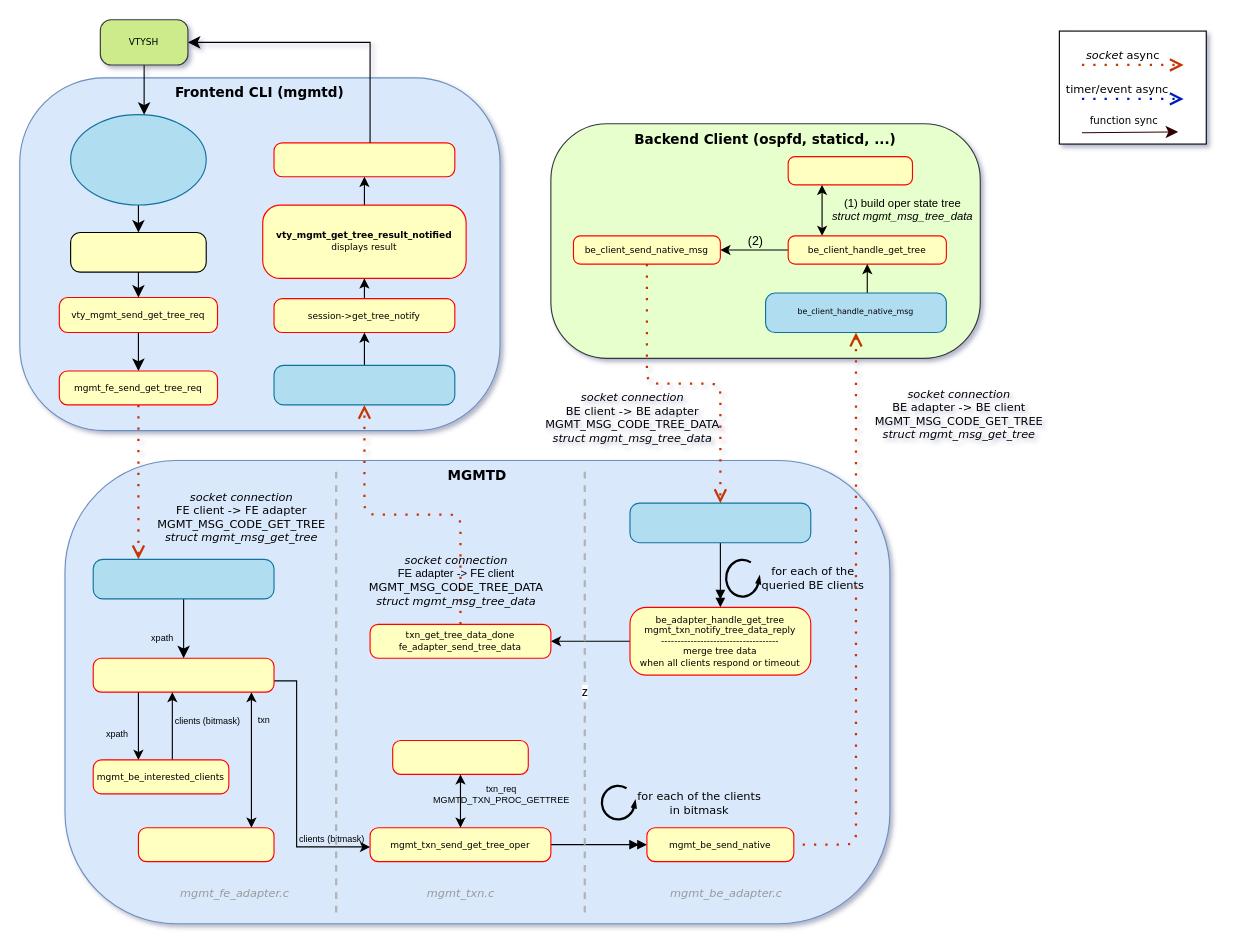
The diagram is 1233 pixels wide and 950 high, and some of its shapes have lost their labels. Here are the shapes that lost their labels. From the top down, the centre of each, then its label:
pixel 137 159: EVENT: VTYSH_READ
pixel 364 159: vty_mgmt_resume_response
pixel 849 170: nb_oper_data_iterate
pixel 137 251: "show mgmt get-data-tree WORD$path [json|xml]"
pixel 364 384: fe_client_handle_native_msg
pixel 720 522: be_adapter_handle_native_msg
pixel 183 578: fe_adapter_handle_native_msg
pixel 183 674: fe_adapter_handle_get_tree
pixel 460 756: mgmt_txn_req_alloc
pixel 205 844: mgmt_create_txn
